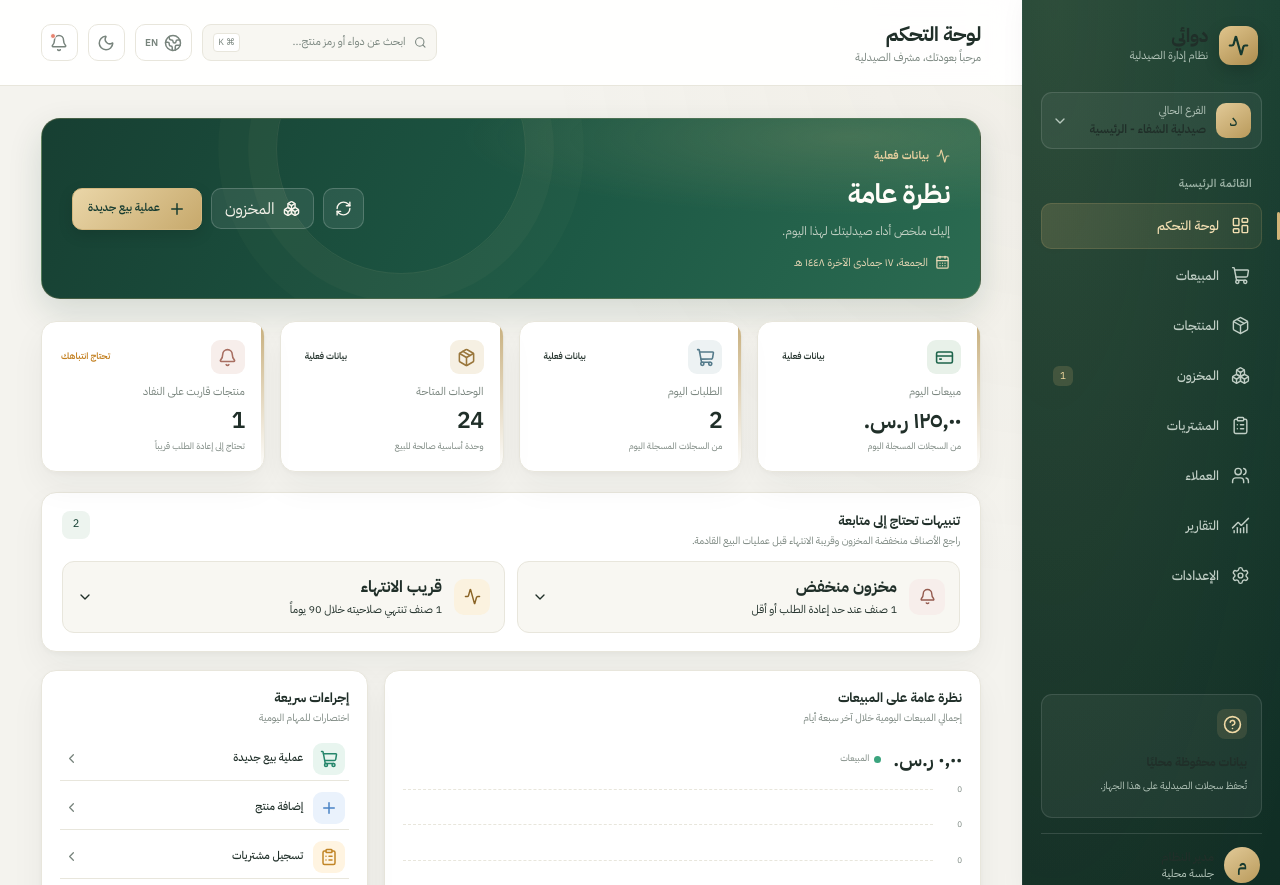
Test: main application shell › shows catalog metrics and filters products by low stock and expiry
This screenshot has width=1280, height=885.
Click the button "المنتجات".
click(1152, 326)  # box [1041, 302, 1262, 348]
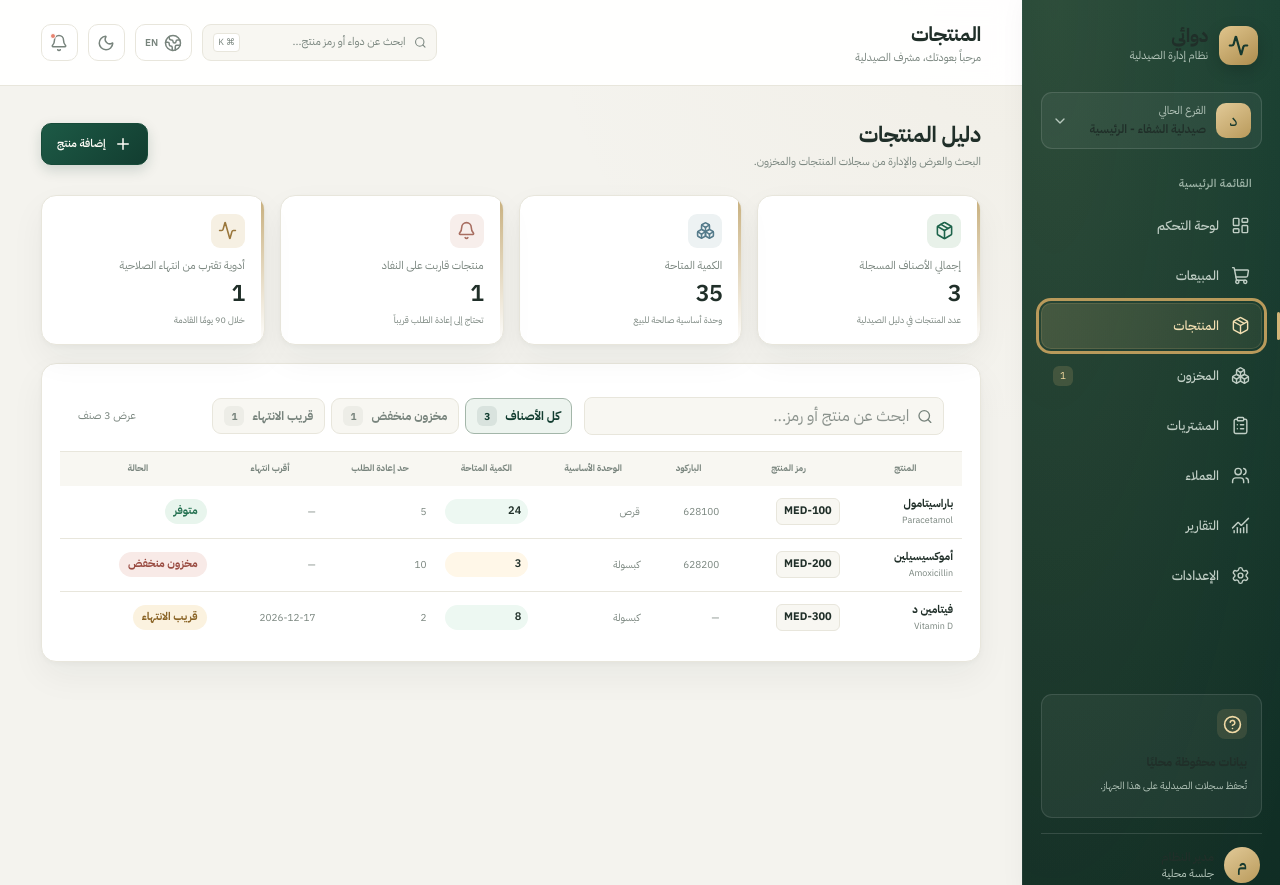
Check: the text "إجمالي الأصناف المسجلة" is shown, box [860, 256, 961, 274]
Check: the text "عرض 3 صنف" is shown, box [78, 408, 136, 424]
Check: the text "628100" is shown, box [649, 486, 728, 538]
Click the button "مخزون منخفض 1".
click(395, 416)  # box [331, 398, 459, 434]
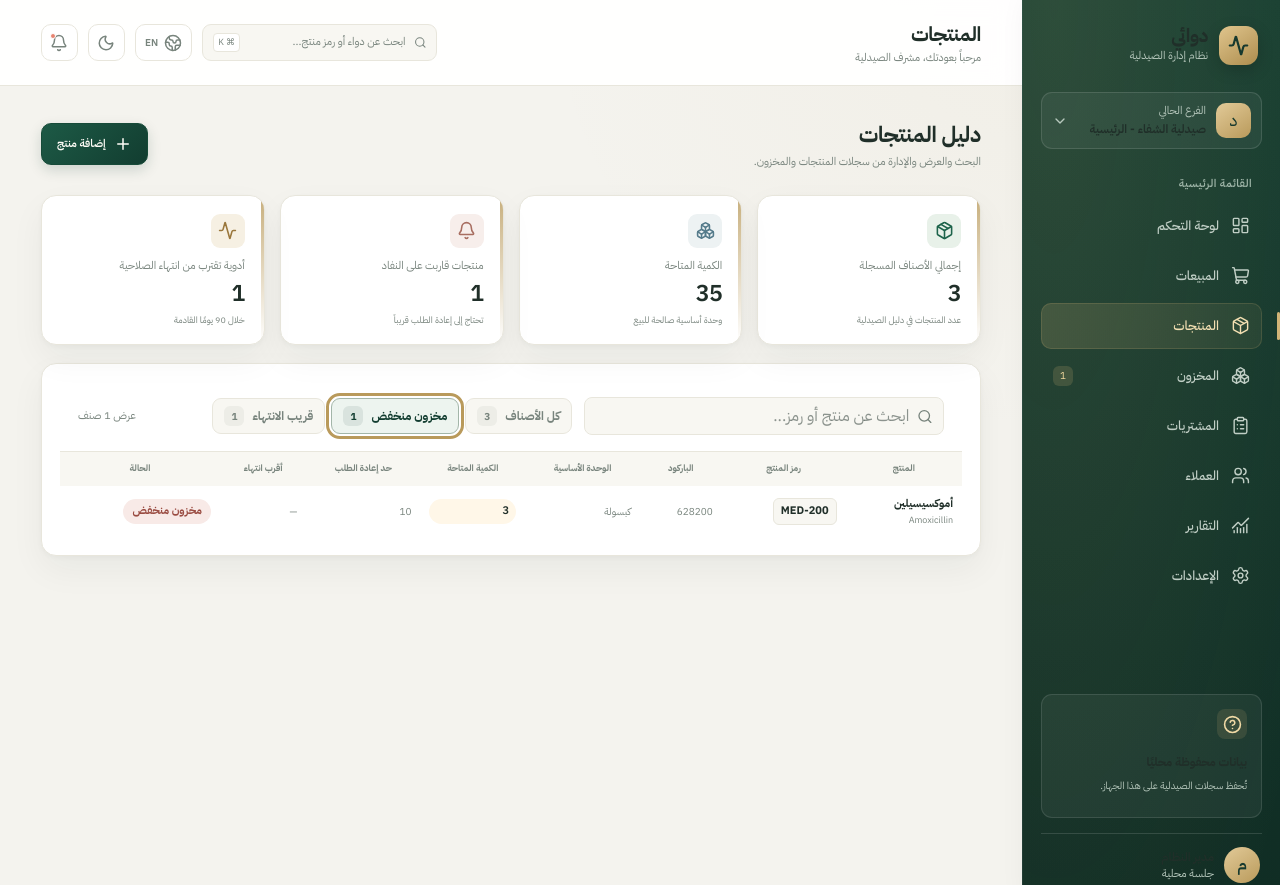
Check: the text "أموكسيسيلين" is shown, box [894, 494, 953, 512]
Check: the text "باراسيتامول" is gone
Click the button "قريب الانتهاء 1".
click(269, 416)  # box [212, 398, 325, 434]
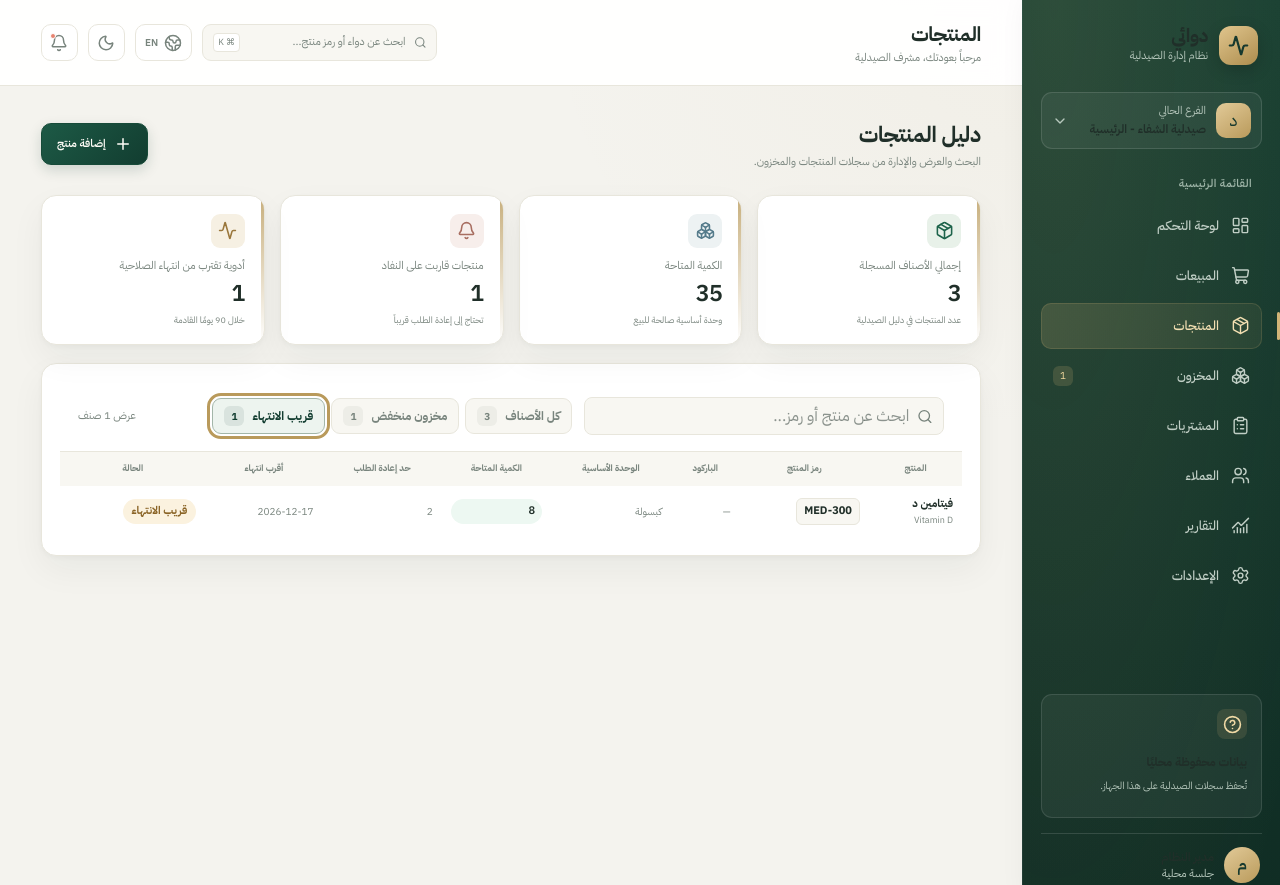
Check: the text "فيتامين د" is shown, box [912, 494, 953, 512]
Check: the text "أموكسيسيلين" is gone
